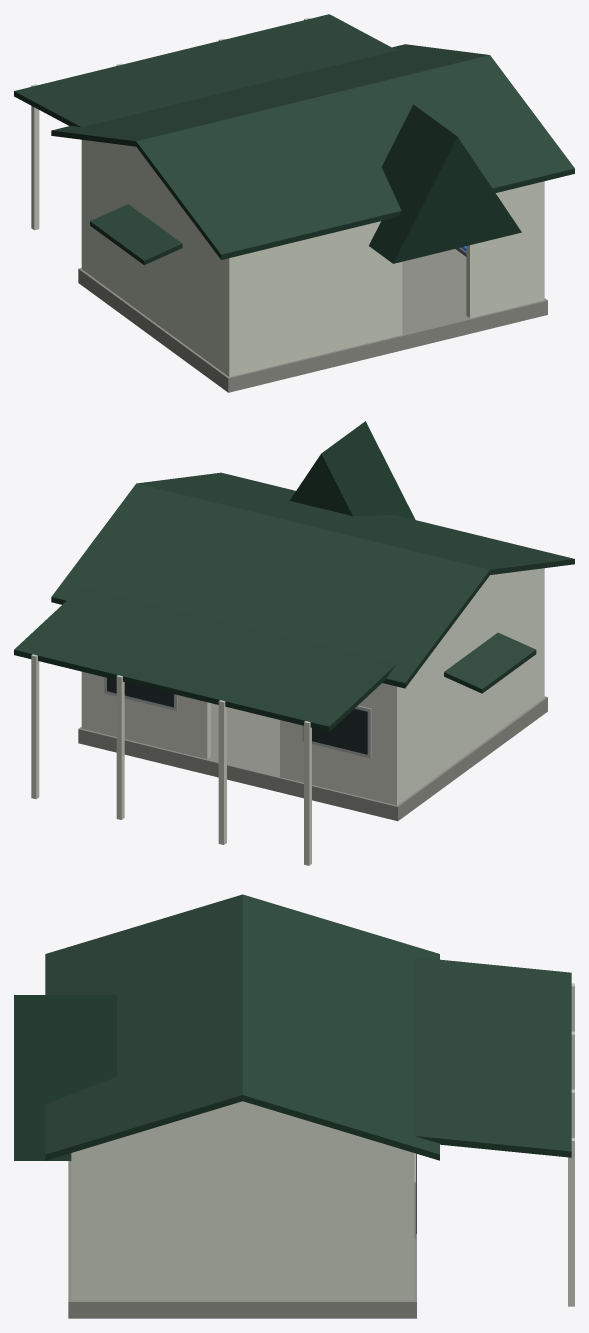
Rendered from midori_station.glb.
3 views of the same model, one above another, from view 1: azimuth 30°, elevation 25°; view 2: azimuth 150°, elevation 25°; view 3: azimuth 270°, elevation 25° (orthographic). The views are drawn at different scales.
Parts seen in each view (by area): view 1: MidoriStation_Roof, MidoriStation_WallFrontLeft, MidoriStation_WallLeft, MidoriStation_Canopy, MidoriStation_Porch, MidoriStation_Foundation, MidoriStation_WallFrontRight, MidoriStation_EndLeanTo, MidoriStation_CanopyPost_0, MidoriStation_WallRight; view 2: MidoriStation_Roof, MidoriStation_Canopy, MidoriStation_WallLeft, MidoriStation_Foundation, MidoriStation_Porch, MidoriStation_WallRearLeft, MidoriStation_WallRearRight, MidoriStation_EndLeanTo, MidoriStation_RearGlass_0, MidoriStation_CanopyPost_1, MidoriStation_CanopyPost_2, MidoriStation_CanopyPost_3 (+2 smaller); view 3: MidoriStation_Roof, MidoriStation_WallRight, MidoriStation_Canopy, MidoriStation_Porch, MidoriStation_Foundation, MidoriStation_CanopyPost_3.
Part boxes in pixels (x1,y1,x2,y2): MidoriStation_Roof: (51, 44, 574, 259); MidoriStation_WallFrontLeft: (235, 221, 402, 375); MidoriStation_WallLeft: (81, 140, 235, 376); MidoriStation_Canopy: (14, 14, 396, 127); MidoriStation_Porch: (369, 104, 521, 263); MidoriStation_Foundation: (78, 249, 547, 392); MidoriStation_WallFrontRight: (466, 183, 538, 318); MidoriStation_EndLeanTo: (90, 204, 182, 265); MidoriStation_CanopyPost_0: (31, 84, 39, 230); MidoriStation_WallRight: (538, 181, 544, 301); MidoriStation_Roof: (51, 472, 574, 688); MidoriStation_Canopy: (14, 587, 396, 731); MidoriStation_WallLeft: (390, 568, 544, 805); MidoriStation_Foundation: (78, 696, 547, 821); MidoriStation_Porch: (290, 421, 415, 519); MidoriStation_WallRearLeft: (280, 683, 390, 803); MidoriStation_WallRearRight: (88, 673, 210, 759); MidoriStation_EndLeanTo: (444, 632, 536, 693); MidoriStation_RearGlass_0: (312, 708, 367, 754); MidoriStation_CanopyPost_1: (218, 700, 226, 844); MidoriStation_CanopyPost_2: (116, 675, 124, 819); MidoriStation_CanopyPost_3: (31, 654, 39, 799); MidoriStation_Roof: (45, 894, 439, 1160); MidoriStation_WallRight: (71, 1101, 414, 1300); MidoriStation_Canopy: (414, 957, 571, 1157); MidoriStation_Porch: (14, 995, 116, 1160); MidoriStation_Foundation: (68, 1154, 416, 1318); MidoriStation_CanopyPost_3: (568, 1138, 574, 1306).
Size of the model in its own units: 8.75 by 5 by 9.81.
